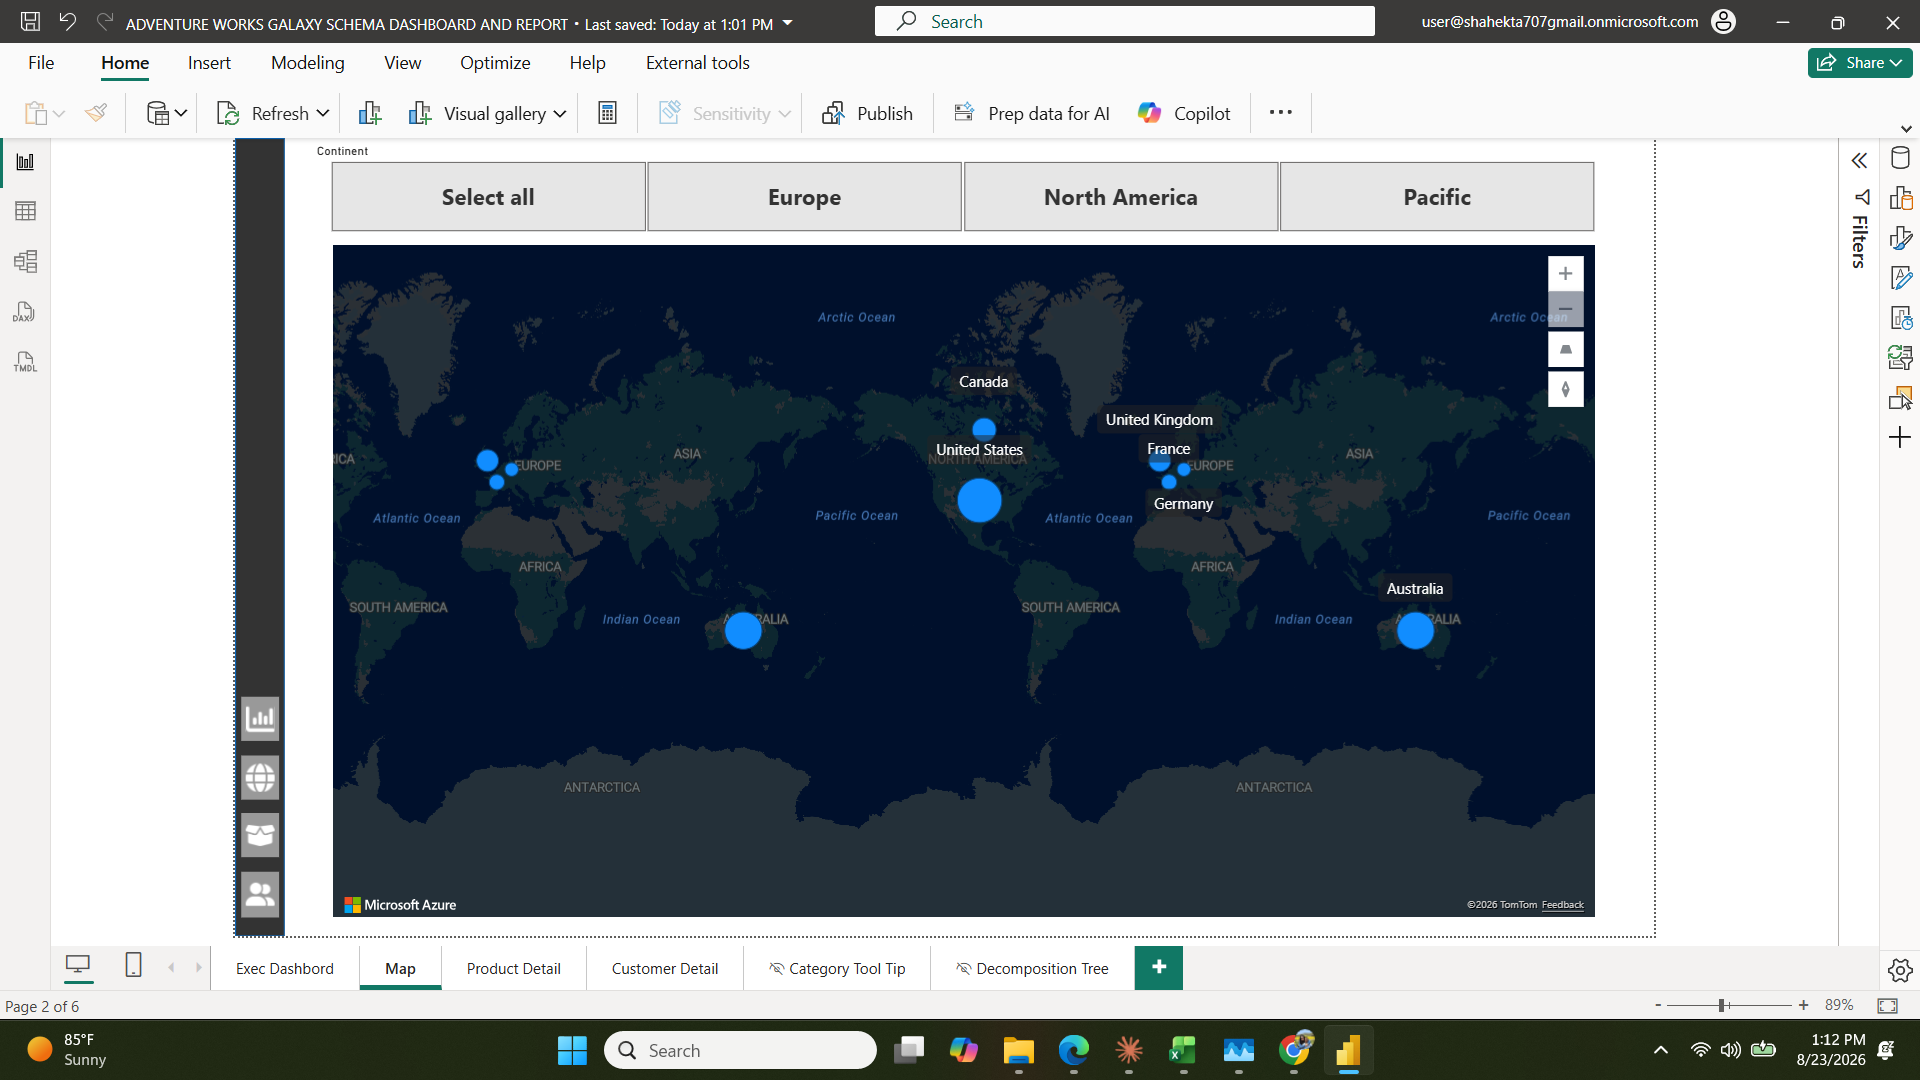

Layout of this report page (visuals, bound fields, positions):
{"tool":"powerbi","page":{"name":"Map","canvas":[1280,720],"ordinal":1},"visuals":[{"type":"shape","box":[0,0,45,720],"z":0},{"type":"azureMap","fields":{"Category":["Territory Lookup.Country"],"Size":["Measure Table.Total Orders"]},"box":[83.9,91,1147.7,615.8],"z":1000},{"type":"actionButton","box":[5.7,503.5,34.1,39.8],"z":1000,"group":"g1"},{"type":"slicer","fields":{"Values":["Territory Lookup.Continent"]},"box":[60.5,0,1188.9,90.8],"z":2000},{"type":"actionButton","box":[5.7,608.7,34.1,39.8],"z":2000,"group":"g1"},{"type":"group","id":"g1","title":"Page Navigation Button","box":[5.7,503.5,34.1,199.1],"z":3000},{"type":"actionButton","box":[5.7,556.1,34.1,39.8],"z":3000,"group":"g1"},{"type":"actionButton","box":[5.7,661.4,34.1,41.2],"z":4000,"group":"g1"}]}

Visuals, with their boxes on the page's 1280x720 design canvas (x1, y1, x2, y2). These are canvas units, not pixel positions in the 1920x1080 screenshot, which may show the page scaled, cropped or inside an application window:
shape: 0,0,45,720
azureMap - Territory Lookup.Country x Measure Table.Total Orders: 84,91,1232,707
actionButton: 6,504,40,543
slicer - Territory Lookup.Continent: 60,0,1249,91
actionButton: 6,609,40,648
"Page Navigation Button" group: 6,504,40,703
actionButton: 6,556,40,596
actionButton: 6,661,40,703
